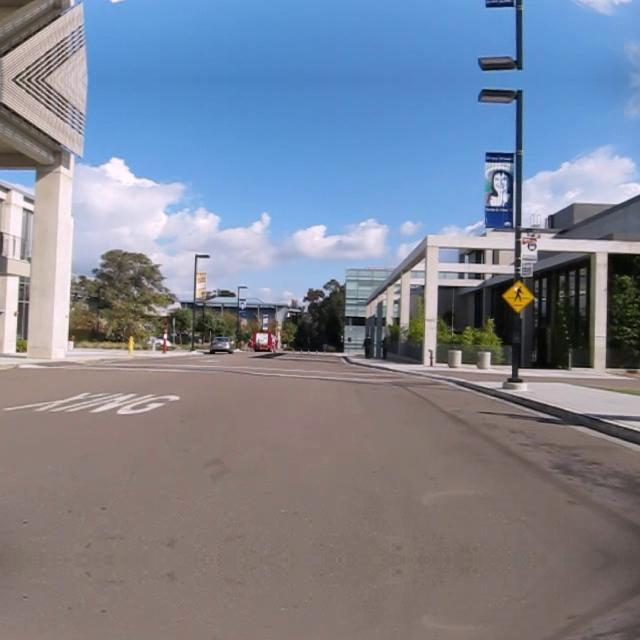pedestrianCrossing: (501, 278, 535, 312)
